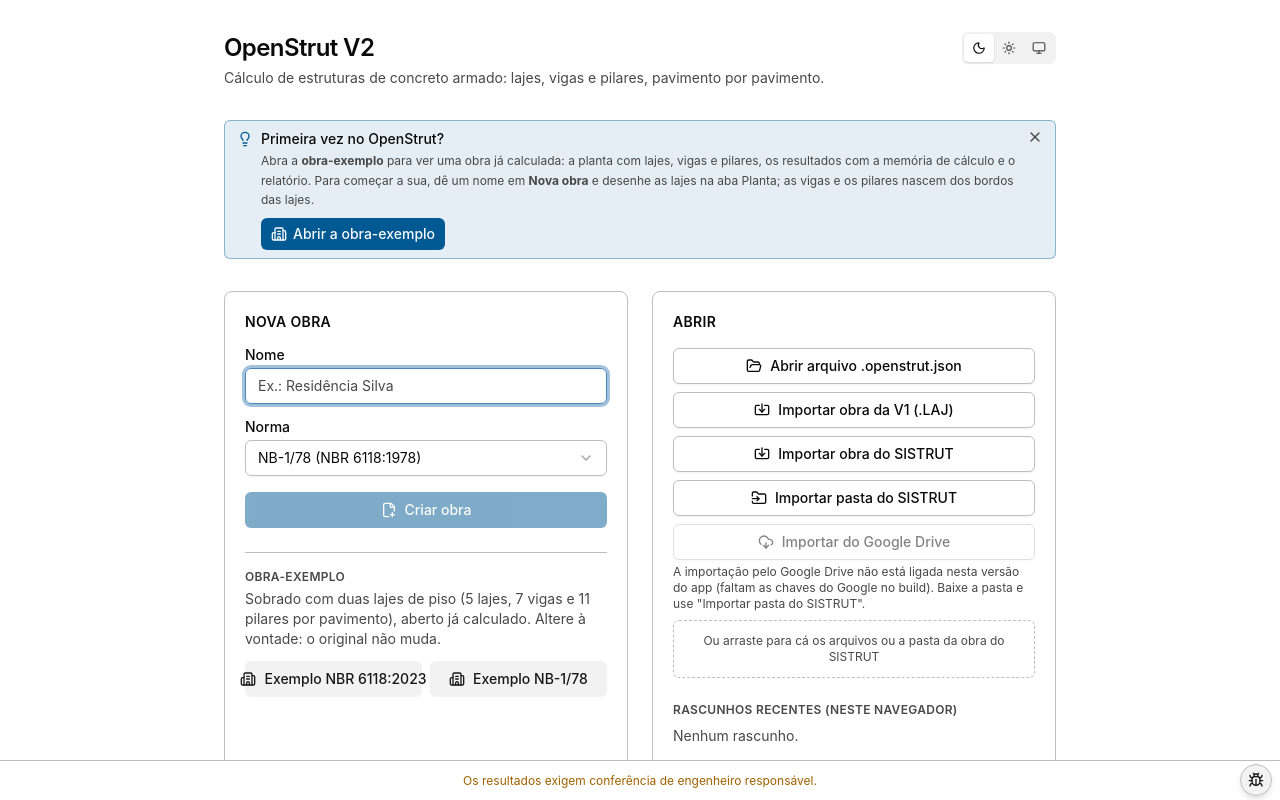
Test: tela inicial › aviso de saída: Continuar editando mantém a obra aberta na tela
Type "Sem salvar" into the field labelled "Nome".
click(426, 386); type("Sem salvar")  # box top-left (245, 368), bottom-right (607, 404)
Then press Enter
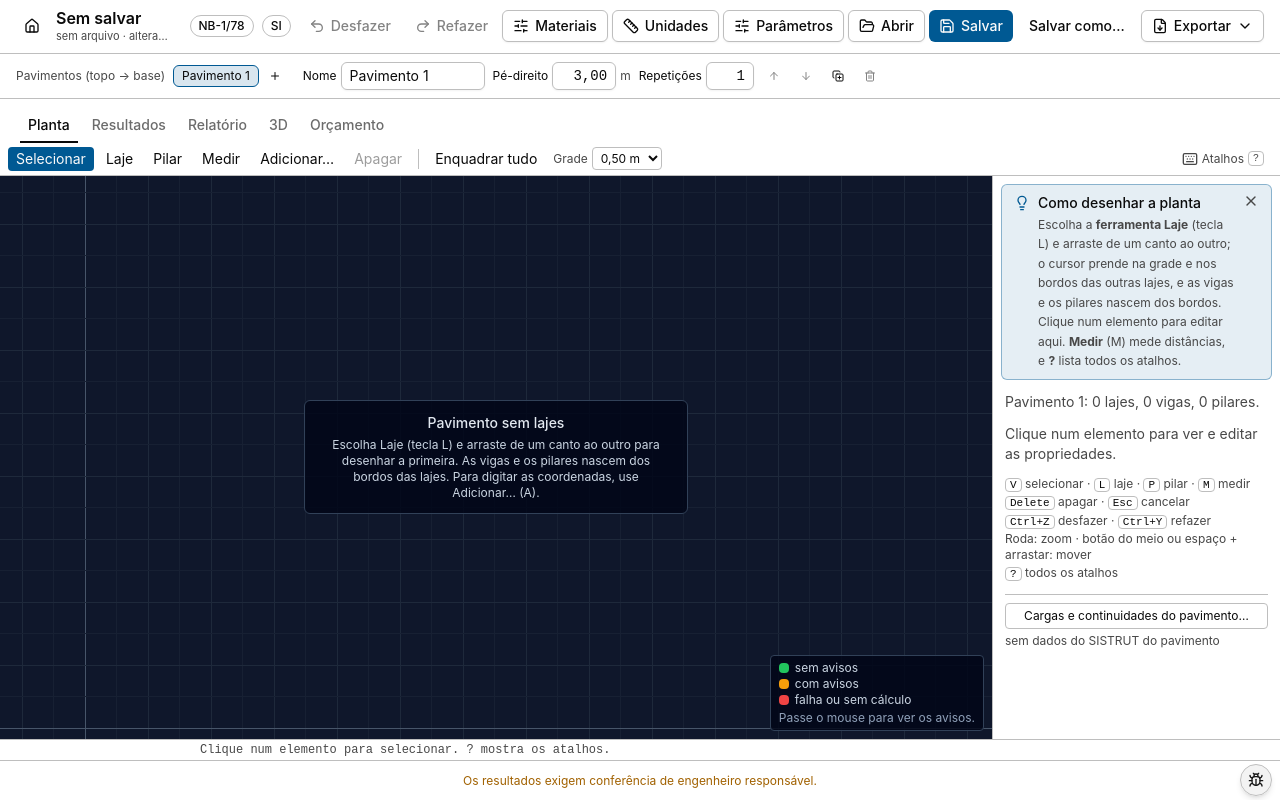
Click the link named "Início".
click(32, 26)  # box top-left (24, 18), bottom-right (40, 34)
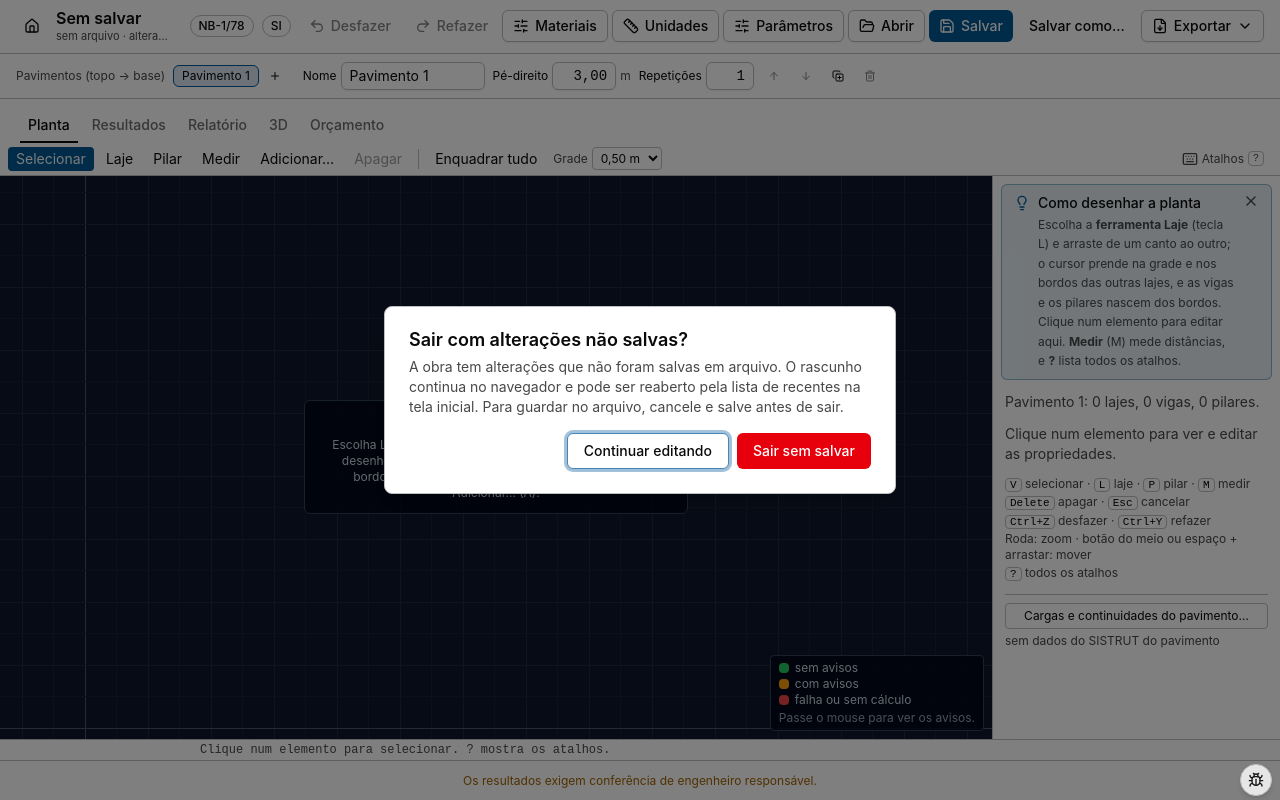
Click the button "Continuar editando".
click(648, 451)  # box top-left (567, 433), bottom-right (729, 469)
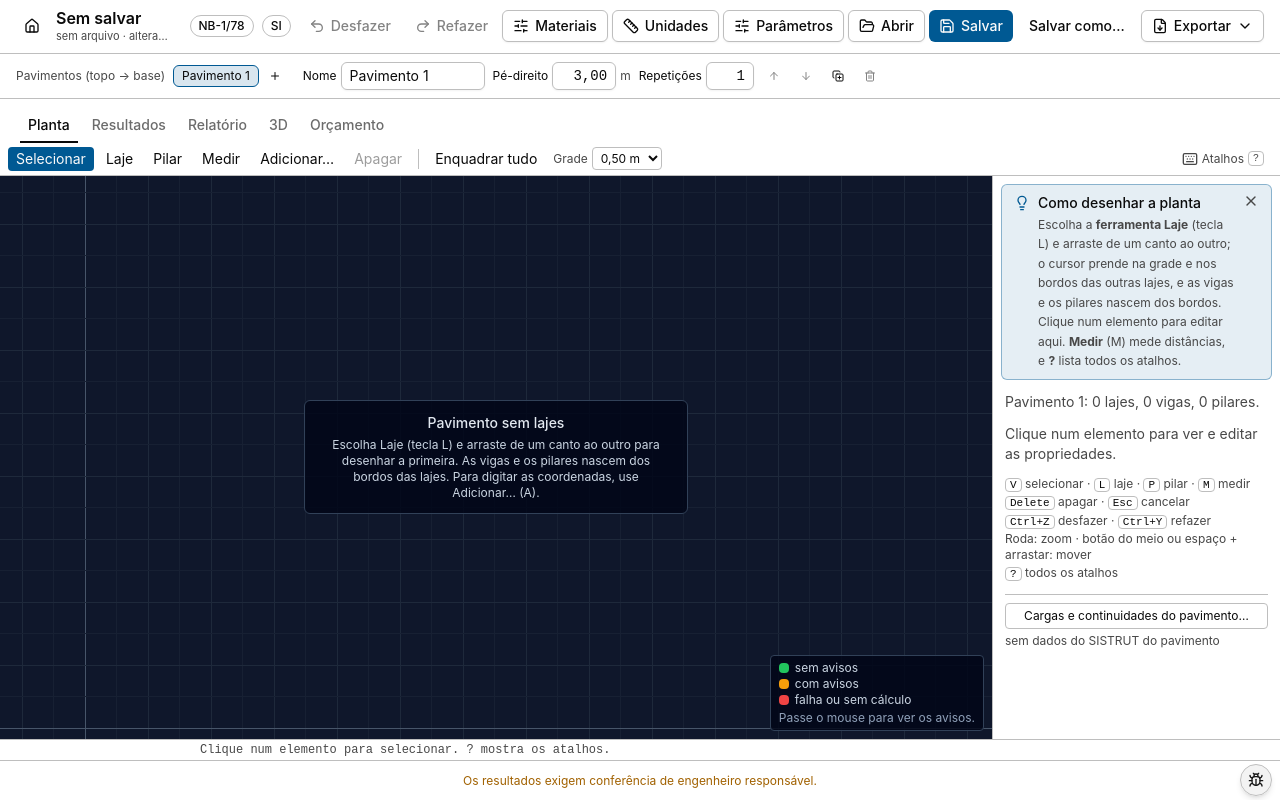
Now the heading "Sem salvar" is shown, box top-left (56, 8), bottom-right (141, 28)
Now the dialog is gone
